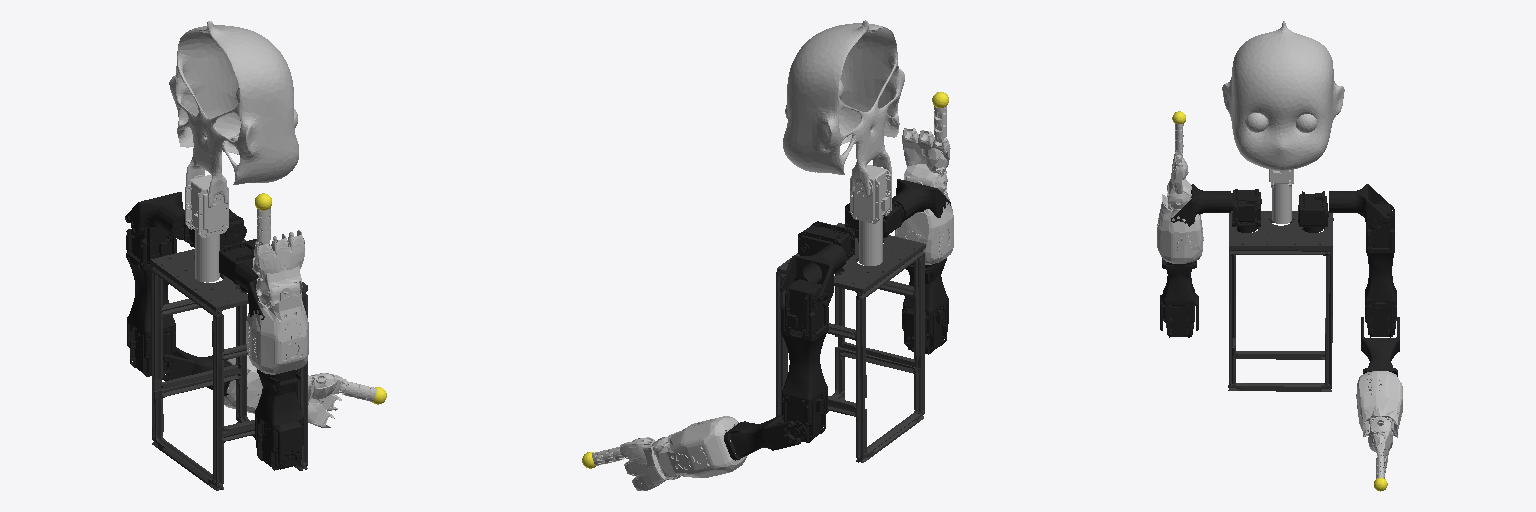
URDF robot description (nico_upper_rh6d):
<?xml version="1.0" ?>
<!-- =================================================================================== -->
<!-- |    This document was manually created   and the meshes resized and repositioned | -->
<!-- |    EDITING THIS FILE BY HAND IS NOT RECOMMENDED                                 | -->
<!-- =================================================================================== -->
<!--
  Copyright (c) 2023, [author]
  All rights reserved.

  This work is licensed under the Creative Commons Attribution-NonCommercial-NoDerivs 3.0 Unported License.
  To view a copy of this license, visit http://creativecommons.org/licenses/by-nc-nd/3.0/ or send a letter to
  Creative Commons, 444 Castro Street, Suite 900, Mountain View, California, 94041, USA.
-->
<robot name="nico_upper_rh6d">
	<link name="world" />
	<link name="torso">
		<visual>
			<geometry>
				<mesh filename="mesh/torso.stl"/>
			</geometry>
			<origin rpy="0 0 0" xyz="0.0 0.0 0.0"/>
			<material name="torso_color">
				<color rgba="0.270588 0.270588 0.270588 1"/>
			</material>
		</visual>
	</link>
	<joint name="world_to_base_link" type="fixed">
    	<parent link="world"/>
    	<child link="torso"/>
  	</joint>
    <link name="neck">
		<visual>
			<geometry>
				<mesh filename="mesh/neck.stl"/>
			</geometry>
			<origin rpy="0 0 0" xyz="0.0 0.0 0.0"/>
			<material name="neck_color">
				<color rgba="0.74902 0.74902 0.74902 1"/>
			</material>
		</visual>
		<collision>
			<geometry>
				<mesh filename="mesh/neck.stl"/>
			</geometry>
			<origin rpy="0 0 0" xyz="0.0 0.0 0.0"/>
		</collision>
		<inertial>
			<mass value="0.090439"/>
			<inertia ixx="0.00006" ixy="-0" ixz="-0" iyy="0.000056" iyz="-0.000001" izz="0.000019"/>
			<origin rpy="0 0 0" xyz="0 0.000266 0.050352"/>
		</inertial>
	</link>
	<joint name="head_z_rjoint" type="fixed">
		<parent link="torso"/>
		<child link="neck"/>
		<origin rpy="0 0 0" xyz="-0.025 0.005 0.23"/>
		<axis xyz="0 0 1"/>
		<limit effort="30" lower="-1.5708" upper="1.5708" velocity="1"/>
	</joint>
	<link name="head">
		<visual>
			<geometry>
				<mesh filename="mesh/head.stl"/>
			</geometry>
			<origin rpy="0 0 0" xyz="0 0 0"/>
			<material name="head_color">
				<color rgba="0.74902 0.74902 0.74902 1"/>
			</material>
		</visual>
		<collision>
			<geometry>
				<mesh filename="mesh/head.stl"/>
			</geometry>
			<origin rpy="0 0 0" xyz="0 0 0"/>
		</collision>
		<inertial>
			<mass value="0.294137"/>
			<inertia ixx="0.001424" ixy="-0" ixz="0.000083" iyy="0.00159" iyz="-0.000002" izz="0.001485"/>
			<origin rpy="0 0 0" xyz="0.01525 -0.023771 0.09423"/>
		</inertial>
	</link>
	<joint name="head_y_rjoint" type="fixed">
		<parent link="neck"/>
		<child link="head"/>
		<origin rpy="0 0 0" xyz="0 0.0 0.105"/>
		<axis xyz="0 1 0"/>
		<limit effort="30" lower="-0.8726" upper="0.4363" velocity="1"/>
	</joint>
    <!-- ====RIGHT ARM=== -->
	<link name="right_shoulder">
		<visual>
			<geometry>
				<mesh filename="mesh/right_shoulder.stl"/>
			</geometry>
			<origin rpy="0 0 0" xyz="0 0 0"/>
			<material name="right_shoulder_color">
				<color rgba="0.176471 0.176471 0.176471 1"/>
			</material>
		</visual>
		<collision>
			<geometry>
				<mesh filename="mesh/right_shoulder.stl"/>
			</geometry>
			<origin rpy="0 0 0" xyz="0 0 0"/>
		</collision>
		<inertial>
			<mass value="0.084038"/>
			<inertia ixx="0.000026" ixy="-0.000001" ixz="-0.000002" iyy="0.000034" iyz="-0" izz="0.000033"/>
			<origin rpy="0 0 0" xyz="0.005637 0.000876 0.033153"/>
		</inertial>
	</link>
	<joint name="r_shoulder_z_rjoint" type="fixed">
		<parent link="torso"/>
		<child link="right_shoulder"/>
		<origin rpy="0 0 0" xyz="0.005 -0.045 0.23"/>
		<axis xyz="0 0 1"/>
		<limit effort="30" lower="-0.4363" upper="1.3963" velocity="1"/>
	</joint>
	<link name="right_collarbone">
		<visual>
			<geometry>
				<mesh filename="mesh/right_collar.stl"/>
			</geometry>
			<origin rpy="0 0 0" xyz="0 0 0"/>
			<material name="right_collarbone_color">
				<color rgba="0.176471 0.176471 0.176471 1"/>
			</material>
		</visual>
		<collision>
			<geometry>
				<mesh filename="mesh/right_collar.stl"/>
			</geometry>
			<origin rpy="0 0 0" xyz="0 0 0"/>
		</collision>
		<inertial>
			<mass value="0.024811"/>
			<inertia ixx="0.000014" ixy="-0" ixz="0" iyy="0.000011" iyz="-0.000001" izz="0.000019"/>
			<origin rpy="0 0 0" xyz="-0 -0.041345 -0.002364"/>
		</inertial>
	</link>
	<joint name="r_shoulder_y_rjoint" type="fixed">
		<parent link="right_shoulder"/>
		<child link="right_collarbone"/>
		<origin rpy="0 0 0" xyz="-0.021 -0.023 0.033"/>
		<axis xyz="0 -1 0"/>
		<limit effort="30" lower="-0.5236" upper="3.1416" velocity="1"/>
	</joint>
	<link name="right_upper_arm">
		<visual>
			<geometry>
				<mesh filename="mesh/right_upper_arm.stl"/>
			</geometry>
			<origin rpy="0 0 0" xyz="0 0 0"/>
			<material name="right_upper_arm_color">
				<color rgba="0.176471 0.176471 0.176471 1"/>
			</material>
		</visual>
		<collision>
			<geometry>
				<mesh filename="mesh/right_upper_arm.stl"/>
			</geometry>
			<origin rpy="0 0 0" xyz="0 0 0"/>
		</collision>
		<inertial>
			<mass value="0.189729"/>
			<inertia ixx="0.000851" ixy="0" ixz="0" iyy="0.000851" iyz="-0.000005" izz="0.000048"/>
			<origin rpy="0 0 0" xyz="-0.02306 -0.000321 -0.0866"/>
		</inertial>
	</link>
	<joint name="r_upperarm_x_rjoint" type="fixed">
		<parent link="right_collarbone"/>
		<child link="right_upper_arm"/>
		<origin rpy="0 0 0" xyz="0.00 -0.073 -0.023"/>
		<axis xyz="-1 0 0"/>
		<limit effort="30" lower="0" upper="1.2217" velocity="1"/>
	</joint>
	<link name="right_lower_arm">
		<visual>
			<geometry>
				<mesh filename="mesh/right_lower_arm.stl"/>
			</geometry>
			<origin rpy="0 0 0" xyz="0 0 0"/>
			<material name="right_lower_arm_color">
				<color rgba="0.176471 0.176471 0.176471 1"/>
			</material>
		</visual>
		<collision>
			<geometry>
				<mesh filename="mesh/right_lower_arm.stl"/>
			</geometry>
			<origin rpy="0 0 0" xyz="0 0 0"/>
		</collision>
		<inertial>
			<mass value="0.076793"/>
			<inertia ixx="0.000104" ixy="-0" ixz="-0" iyy="0.000095" iyz="-0.000002" izz="0.000021"/>
			<origin rpy="0 0 0" xyz="0 0.022485 -0.081055"/>
		</inertial>
	</link>
	<joint name="r_elbow_y_rjoint" type="fixed">
		<parent link="right_upper_arm"/>
		<child link="right_lower_arm"/>
		<origin rpy="0 3.14 0" xyz="0.0 0 -0.17"/>
		<axis xyz="0 1 0"/>
		<limit effort="30" lower="0.8726" upper="3.1416" velocity="1"/>
	</joint>
	<link name="right_wrist">
		<visual>
			<geometry>
				<mesh filename="mesh/right_wrist.stl"/>
			</geometry>
			<origin rpy="0 0 0" xyz="0 0 0"/>
			<material name="right_wrist_color">
				<color rgba="0.74902 0.74902 0.74902 1"/>
			</material>
		</visual>
		<collision>
			<geometry>
				<mesh filename="mesh/right_wrist.stl"/>
			</geometry>
			<origin rpy="0 0 0" xyz="0 0 0"/>
		</collision>
		<inertial>
			<mass value="0.028397"/>
			<inertia ixx="0.000043" ixy="-0" ixz="0.000004" iyy="0.000058" iyz="-0.000007" izz="0.000029"/>
			<origin rpy="0 0 0" xyz="0.000031 -0.011056 -0.0675"/>
		</inertial>
	</link>
	<joint name="r_wrist_z_rjoint" type="fixed">
		<parent link="right_lower_arm"/>
		<child link="right_wrist"/>
		<origin rpy="0 0 1.57" xyz="0 0 -0.105"/>
		<axis xyz="0 0 1"/>
		<limit effort="30" lower="-1.571" upper="1.571" velocity="1"/>
	</joint>
	<link name="right_palm"> <!--gripper-->
		<visual>
			<geometry>
				<mesh filename="mesh/right_palm.stl"/>
			</geometry>
			<origin rpy="0 0 0" xyz="0 0 0"/>
			<material name="gripper_color">
				<color rgba="0.74902 0.74902 0.74902 1"/>
			</material>
		</visual>
		<collision>
			<geometry>
				<mesh filename="mesh/right_palm.stl"/>
			</geometry>
			<origin rpy="0 0 0" xyz="0 0 0"/>
		</collision>
		<inertial>
			<mass value="0.005332"/>
			<inertia ixx="0.000015" ixy="0.000001" ixz="-0.000004" iyy="0.000017" iyz="0.000004" izz="0.000006"/>
			<origin rpy="0 0 0" xyz="-0.029511 0.002253 -0.023968"/>
		</inertial>
	</link>
	<joint name="r_wrist_x_rjoint" type="fixed">
		<parent link="right_wrist"/>
		<child link="right_palm"/>
		<origin rpy="0 0 0" xyz="0 0 -0.10"/>
		<axis xyz="0 1 0"/>
		<limit effort="30" lower="-.78" upper="0.78" velocity="1"/>
	</joint>
	<!--link name="endeffector">
    	<visual>
      		<origin rpy="0 0 0" xyz="0 0.0 0.0"/>
      		<geometry>
        		<sphere radius="0.01"/>
      		</geometry>
    	</visual>
  	</link>
	<joint name="endeffector_joint" type="fixed">
    	<parent link="gripper"/>
    	<child link="endeffector"/>
    	<origin rpy="0 0 0" xyz="0.00 -0.02 -0.11"/>
	</joint-->
	<!--link name="middlefinger">
		<visual>
			<geometry>
				<mesh filename="mesh/finger.stl"/>
			</geometry>
			<origin rpy="0 0 0" xyz="0 0 0"/>
			<material name="finger_color">
				<color rgba="0.74902 0.74902 0.74902 1"/>
			</material>
		</visual>
		<collision>
			<geometry>
				<mesh filename="mesh/finger.stl"/>
			</geometry>
			<origin rpy="0 0 0" xyz="0 0 0"/>
		</collision>
		<inertial>
			<mass value="0.000009"/>
			<inertia ixx="0" ixy="0" ixz="-0" iyy="0" iyz="0" izz="0"/>
			<origin rpy="0 0 0" xyz="0.005409 0.000556 -0.005751"/>
		</inertial>
	</link-->
	<!--link name="littlefinger">
		<visual>
			<geometry>
				<mesh filename="mesh/finger.stl"/>
			</geometry>
			<origin rpy="0 0 0" xyz="0 0 0"/>
			<material name="finger_color">
				<color rgba="0.74902 0.74902 0.74902 1"/>
			</material>
		</visual>
		<collision>
			<geometry>
				<mesh filename="mesh/finger.stl"/>
			</geometry>
			<origin rpy="0 0 0" xyz="0 0 0"/>
		</collision>
		<inertial>
			<mass value="0.000009"/>
			<inertia ixx="0" ixy="0" ixz="-0" iyy="0" iyz="0" izz="0"/>
			<origin rpy="0 0 0" xyz="0.005409 0.000556 -0.005751"/>
		</inertial>
	</link-->
	<link name="gripper"> <!--indexfinder-->
		<visual>
			<geometry>
				<mesh filename="mesh/finger.stl"/>
			</geometry>
			<origin rpy="0 0 0" xyz="0 0 0"/>
			<material name="finger_color">
				<color rgba="0.74902 0.74902 0.74902 1"/>
			</material>
		</visual>
		<collision>
			<geometry>
				<mesh filename="mesh/finger.stl"/>
			</geometry>
			<origin rpy="0 0 0" xyz="0 0 0"/>
		</collision>
		<inertial>
			<mass value="0.000009"/>
			<inertia ixx="0" ixy="0" ixz="-0" iyy="0" iyz="0" izz="0"/>
			<origin rpy="0 0 0" xyz="0.005409 0.000556 -0.005751"/>
		</inertial>
	</link>
	<!--joint name="middlefinger_rjoint" type="fixed">
		<parent link="gripper"/>
		<child link="middlefinger"/>
		<origin rpy="0 0 0" xyz="0 0 -0.06"/>
		<axis xyz="0 1 0"/>
		<limit effort="30" lower="-2.57" upper="0" velocity="1"/>
	</joint-->
	<!--joint name="litlefinger_rjoint" type="fixed">
		<parent link="gripper"/>
		<child link="littlefinger"/>
		<origin rpy="0 0 0" xyz="0.00 0.02 -0.06"/>
		<axis xyz="0 1 0"/>
		<limit effort="30" lower="-2.57" upper="0" velocity="1"/>
	</joint-->
	<joint name="gripper_rjoint" type="fixed">
		<parent link="right_palm"/>
		<child link="gripper"/>
		<origin rpy="0 0 0" xyz="0.00 -0.02 -0.06"/>
		<axis xyz="0 1 0"/>
		<limit effort="30" lower="-2.57" upper="0" velocity="1"/>
	</joint>
	<link name="endeffector"> <!-- change to endeffector to use right hand IK -->
    	<visual>
      		<origin rpy="0 0 0" xyz="0 0.0 0.0"/>
      		<geometry>
        		<sphere radius="0.01"/>
      		</geometry>
    	</visual>
  	</link>
	<joint name="endeffector_joint" type="fixed">
    	<parent link="gripper"/>
    	<child link="endeffector"/>
    	<origin rpy="0 0 0" xyz="0.00 -0.0 -0.05"/>
	</joint>
    <!-- ====LEFT ARM=== -->
    <link name="left_shoulder">
		<visual>
			<geometry>
				<mesh filename="mesh/left_shoulder.stl"/>
			</geometry>
			<origin rpy="0 0 0" xyz="0 0 0"/>
			<material name="left_shoulder_color">
				<color rgba="0.176471 0.176471 0.176471 1"/>
			</material>
		</visual>
		<collision>
			<geometry>
				<mesh filename="mesh/left_shoulder.stl"/>
			</geometry>
			<origin rpy="0 0 0" xyz="0 0 0"/>
		</collision>
		<inertial>
			<mass value="0.084038"/>
			<inertia ixx="0.000026" ixy="-0.000001" ixz="-0.000002" iyy="0.000034" iyz="-0" izz="0.000033"/>
			<origin rpy="0 0 0" xyz="0.005637 0.000876 0.033153"/>
		</inertial>
	</link>
	<joint name="l_shoulder_z_rjoint" type="revolute">
		<parent link="torso"/>
		<child link="left_shoulder"/>
		<origin rpy="0 0 0" xyz="0.005 0.05 0.23"/>
		<axis xyz="0 0 1"/>
		<limit effort="30" lower="-1.3963" upper="0.4363" velocity="1"/>
	</joint>
	<link name="left_collarbone">
		<visual>
			<geometry>
				<mesh filename="mesh/left_collar.stl"/>
			</geometry>
			<origin rpy="0 0 0" xyz="0 0 0"/>
			<material name="right_collarbone_color">
				<color rgba="0.176471 0.176471 0.176471 1"/>
			</material>
		</visual>
		<collision>
			<geometry>
				<mesh filename="mesh/left_collar.stl"/>
			</geometry>
			<origin rpy="0 0 0" xyz="0 0 0"/>
		</collision>
		<inertial>
			<mass value="0.024811"/>
			<inertia ixx="0.000014" ixy="-0" ixz="0" iyy="0.000011" iyz="-0.000001" izz="0.000019"/>
			<origin rpy="0 0 0" xyz="-0 -0.041345 -0.002364"/>
		</inertial>
	</link>
	<joint name="l_shoulder_y_rjoint" type="revolute">
		<parent link="left_shoulder"/>
		<child link="left_collarbone"/>
		<origin rpy="0 0 0" xyz="-0.021 0.023 0.033"/>
		<axis xyz="0 -1 0"/>
		<limit effort="30" lower="-0.5236" upper="3.1416" velocity="1"/>
	</joint>
	<link name="left_upper_arm">
		<visual>
			<geometry>
				<mesh filename="mesh/right_upper_arm.stl"/>
			</geometry>
			<origin rpy="0 0 0" xyz="0 0 0"/>
			<material name="right_upper_arm_color">
				<color rgba="0.176471 0.176471 0.176471 1"/>
			</material>
		</visual>
		<collision>
			<geometry>
				<mesh filename="mesh/right_upper_arm.stl"/>
			</geometry>
			<origin rpy="0 0 0" xyz="0 0 0"/>
		</collision>
		<inertial>
			<mass value="0.189729"/>
			<inertia ixx="0.000851" ixy="0" ixz="0" iyy="0.000851" iyz="-0.000005" izz="0.000048"/>
			<origin rpy="0 0 0" xyz="-0.02306 -0.000321 -0.0866"/>
		</inertial>
	</link>
	<joint name="l_upperarm_x_rjoint" type="revolute">
		<parent link="left_collarbone"/>
		<child link="left_upper_arm"/>
		<origin rpy="0 0 0" xyz="0.00 0.073 -0.023"/>
		<axis xyz="1 0 0"/>
		<limit effort="30" lower="0" upper="1.2217" velocity="1"/>
	</joint>
	<link name="left_lower_arm">
		<visual>
			<geometry>
				<mesh filename="mesh/right_lower_arm.stl"/>
			</geometry>
			<origin rpy="0 0 0" xyz="0 0 0"/>
			<material name="right_lower_arm_color">
				<color rgba="0.176471 0.176471 0.176471 1"/>
			</material>
		</visual>
		<collision>
			<geometry>
				<mesh filename="mesh/right_lower_arm.stl"/>
			</geometry>
			<origin rpy="0 0 0" xyz="0 0 0"/>
		</collision>
		<inertial>
			<mass value="0.076793"/>
			<inertia ixx="0.000104" ixy="-0" ixz="-0" iyy="0.000095" iyz="-0.000002" izz="0.000021"/>
			<origin rpy="0 0 0" xyz="0 0.022485 -0.081055"/>
		</inertial>
	</link>
	<joint name="l_elbow_y_rjoint" type="revolute">
		<parent link="left_upper_arm"/>
		<child link="left_lower_arm"/>
		<origin rpy="0 3.14 0" xyz="0.0 0 -0.17"/>
		<axis xyz="0 1 0"/>
		<limit effort="30" lower="0.8726" upper="3.1416" velocity="1"/>
	</joint>
	<link name="left_wrist">
		<visual>
			<geometry>
				<mesh filename="mesh/left_wrist.stl"/>
			</geometry>
			<origin rpy="0 0 0" xyz="0 0 0"/>
			<material name="right_wrist_color">
				<color rgba="0.74902 0.74902 0.74902 1"/>
			</material>
		</visual>
		<collision>
			<geometry>
				<mesh filename="mesh/left_wrist.stl"/>
			</geometry>
			<origin rpy="0 0 0" xyz="0 0 0"/>
		</collision>
		<inertial>
			<mass value="0.028397"/>
			<inertia ixx="0.000043" ixy="-0" ixz="0.000004" iyy="0.000058" iyz="-0.000007" izz="0.000029"/>
			<origin rpy="0 0 0" xyz="0.000031 -0.011056 -0.0675"/>
		</inertial>
	</link>
	<joint name="l_wrist_z_rjoint" type="revolute">
		<parent link="left_lower_arm"/>
		<child link="left_wrist"/>
		<origin rpy="0 0 1.57" xyz="0 0 -0.105"/>
		<axis xyz="0 0 1"/>
		<limit effort="30" lower="-1.571" upper="1.571" velocity="1"/>
	</joint>
	<link name="left_palm"> <!--gripper-->
		<visual>
			<geometry>
				<mesh filename="mesh/left_palm.stl"/>
			</geometry>
			<origin rpy="0 0 0" xyz="0 0 0"/>
			<material name="gripper_color">
				<color rgba="0.74902 0.74902 0.74902 1"/>
			</material>
		</visual>
		<collision>
			<geometry>
				<mesh filename="mesh/left_palm.stl"/>
			</geometry>
			<origin rpy="0 0 0" xyz="0 0 0"/>
		</collision>
		<inertial>
			<mass value="0.005332"/>
			<inertia ixx="0.000015" ixy="0.000001" ixz="-0.000004" iyy="0.000017" iyz="0.000004" izz="0.000006"/>
			<origin rpy="0 0 0" xyz="-0.029511 0.002253 -0.023968"/>
		</inertial>
	</link>
	<joint name="l_wrist_x_rjoint" type="revolute">
		<parent link="left_wrist"/>
		<child link="left_palm"/>
		<origin rpy="0 0 0" xyz="0 0 -0.10"/>
		<axis xyz="0 1 0"/>
		<limit effort="30" lower="-.78" upper="0.78" velocity="1"/>
	</joint>
    <!--link name="endeffector">
    	<visual>
      		<origin rpy="0 0 0" xyz="0 0.0 0.0"/>
      		<geometry>
        		<sphere radius="0.01"/>
      		</geometry>
    	</visual>
  	</link>
	<joint name="endeffector_joint" type="fixed">
    	<parent link="gripper"/>
    	<child link="endeffector"/>
    	<origin rpy="0 0 0" xyz="0.00 -0.02 -0.11"/>
	</joint-->
	<!--link name="middlefinger">
		<visual>
			<geometry>
				<mesh filename="mesh/finger.stl"/>
			</geometry>
			<origin rpy="0 0 0" xyz="0 0 0"/>
			<material name="finger_color">
				<color rgba="0.74902 0.74902 0.74902 1"/>
			</material>
		</visual>
		<collision>
			<geometry>
				<mesh filename="mesh/finger.stl"/>
			</geometry>
			<origin rpy="0 0 0" xyz="0 0 0"/>
		</collision>
		<inertial>
			<mass value="0.000009"/>
			<inertia ixx="0" ixy="0" ixz="-0" iyy="0" iyz="0" izz="0"/>
			<origin rpy="0 0 0" xyz="0.005409 0.000556 -0.005751"/>
		</inertial>
	</link-->
	<!--link name="littlefinger">
		<visual>
			<geometry>
				<mesh filename="mesh/finger.stl"/>
			</geometry>
			<origin rpy="0 0 0" xyz="0 0 0"/>
			<material name="finger_color">
				<color rgba="0.74902 0.74902 0.74902 1"/>
			</material>
		</visual>
		<collision>
			<geometry>
				<mesh filename="mesh/finger.stl"/>
			</geometry>
			<origin rpy="0 0 0" xyz="0 0 0"/>
		</collision>
		<inertial>
			<mass value="0.000009"/>
			<inertia ixx="0" ixy="0" ixz="-0" iyy="0" iyz="0" izz="0"/>
			<origin rpy="0 0 0" xyz="0.005409 0.000556 -0.005751"/>
		</inertial>
	</link-->
	<link name="grippel"> <!--indexfinder-->
		<visual>
			<geometry>
				<mesh filename="mesh/finger.stl"/>
			</geometry>
			<origin rpy="0 0 0" xyz="0 0 0"/>
			<material name="finger_color">
				<color rgba="0.74902 0.74902 0.74902 1"/>
			</material>
		</visual>
		<collision>
			<geometry>
				<mesh filename="mesh/finger.stl"/>
			</geometry>
			<origin rpy="0 0 0" xyz="0 0 0"/>
		</collision>
		<inertial>
			<mass value="0.000009"/>
			<inertia ixx="0" ixy="0" ixz="-0" iyy="0" iyz="0" izz="0"/>
			<origin rpy="0 0 0" xyz="0.005409 0.000556 -0.005751"/>
		</inertial>
	</link>
	<!--joint name="middlefinger_rjoint" type="fixed">
		<parent link="gripper"/>
		<child link="middlefinger"/>
		<origin rpy="0 0 0" xyz="0 0 -0.06"/>
		<axis xyz="0 1 0"/>
		<limit effort="30" lower="-2.57" upper="0" velocity="1"/>
	</joint-->
	<!--joint name="litlefinger_rjoint" type="fixed">
		<parent link="gripper"/>
		<child link="littlefinger"/>
		<origin rpy="0 0 0" xyz="0.00 0.02 -0.06"/>
		<axis xyz="0 1 0"/>
		<limit effort="30" lower="-2.57" upper="0" velocity="1"/>
	</joint-->
	<joint name="grippel_rjoint" type="revolute">
		<parent link="left_palm"/>
		<child link="grippel"/>
		<origin rpy="0 0 0" xyz="0.00 -0.02 -0.06"/>
		<axis xyz="0 1 0"/>
		<limit effort="30" lower="0" upper="2.57" velocity="1"/>
	</joint>
	<link name="endeffectol">
    	<visual>
      		<origin rpy="0 0 0" xyz="0 0.0 0.0"/>
      		<geometry>
        		<sphere radius="0.01"/>
      		</geometry>
    	</visual>
  	</link>
	<joint name="endeffectol_joint" type="fixed">
    	<parent link="grippel"/>
    	<child link="endeffectol"/>
    	<origin rpy="0 0 0" xyz="0.00 -0.0 -0.05"/>
	</joint>
</robot>

--- Facts derived from the render (not from the file) ---
The picture shows the robot from 3 angles, left to right: view 1: azimuth 30°, elevation 25°; view 2: azimuth 150°, elevation 25°; view 3: azimuth 270°, elevation 25°; orthographic projection.
Model nico_upper_rh6d with 20 links and 19 joints (7 revolute, 12 fixed), rooted at world, posed all joints at 0 but 1 set to mid-range because 0 is outside their limits (l_elbow_y_rjoint = 2.01).
Visible links, largest first — view 1: head, torso, right_wrist, left_upper_arm, neck, right_upper_arm, right_palm, left_collarbone, right_lower_arm, left_palm, left_lower_arm, right_shoulder (+3 smaller); view 2: head, torso, left_upper_arm, left_wrist, neck, right_wrist, right_palm, left_lower_arm, left_collarbone, right_upper_arm, left_palm, left_shoulder (+3 smaller); view 3: head, torso, left_upper_arm, left_wrist, right_wrist, right_upper_arm, left_collarbone, left_lower_arm, right_collarbone, right_shoulder, neck, left_shoulder (+3 smaller).
Boxes of the visible links, x1,y1,x2,y2 form: head: (169,21,298,207); torso: (150,239,307,490); right_wrist: (246,282,308,374); left_upper_arm: (126,225,176,376); neck: (185,175,228,282); right_upper_arm: (255,369,303,470); right_palm: (252,230,304,302); left_collarbone: (125,192,186,239); right_lower_arm: (256,369,301,465); left_palm: (308,373,348,427); left_lower_arm: (162,347,231,395); right_shoulder: (219,239,256,292); head: (783,20,904,195); torso: (776,223,925,462); left_upper_arm: (781,279,828,442); left_wrist: (653,416,747,477); neck: (850,165,891,265); right_wrist: (895,174,953,264); right_palm: (902,128,950,192); left_lower_arm: (724,414,800,460); left_collarbone: (780,244,846,306); right_upper_arm: (902,263,948,354); left_palm: (619,437,682,490); left_shoulder: (798,221,854,273); head: (1222,21,1344,170); torso: (1228,211,1333,391); left_upper_arm: (1365,202,1396,337); left_wrist: (1356,371,1402,437); right_wrist: (1157,191,1203,263); right_upper_arm: (1163,262,1194,337); left_collarbone: (1329,184,1388,231); left_lower_arm: (1361,317,1399,376); right_collarbone: (1171,184,1230,226); right_shoulder: (1231,189,1261,232); neck: (1269,169,1293,223); left_shoulder: (1298,191,1328,232).
Size in the robot's own frame: 0.3451 by 0.3512 by 0.6148 metres.
Meshes: 14 distinct files referenced, 17 mesh visuals loaded (14 binary STL).
